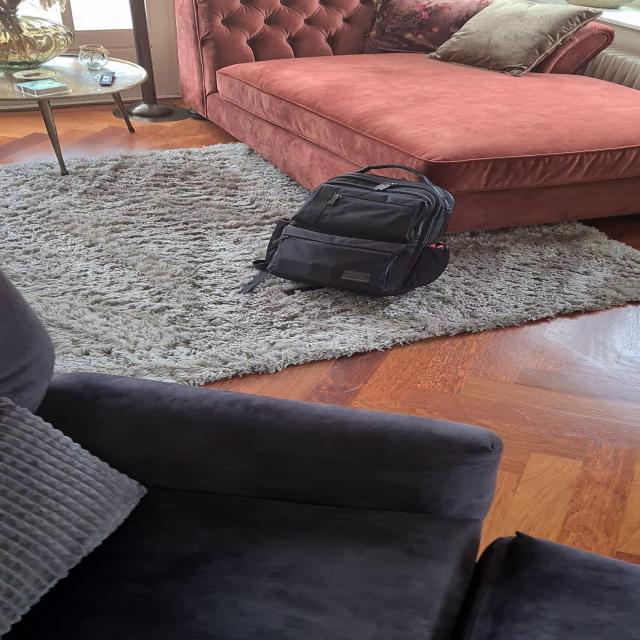backpack: (251, 159, 462, 303)
